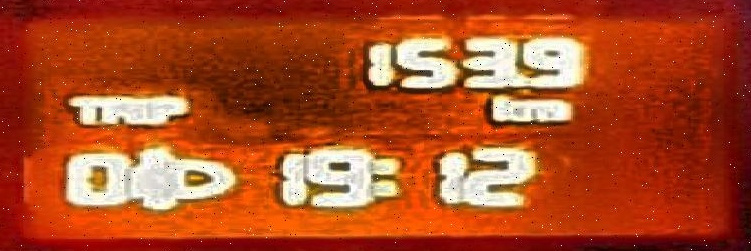-: (513, 71, 526, 91)
0: (62, 146, 131, 209)
1: (273, 146, 306, 209), (359, 37, 395, 90), (433, 146, 464, 206)
2: (466, 144, 533, 209)
3: (459, 33, 517, 89)
5: (393, 33, 455, 89)
9: (309, 140, 371, 209), (524, 32, 586, 87)
X: (520, 97, 571, 125), (97, 91, 133, 124), (370, 154, 395, 199), (153, 93, 188, 124), (66, 91, 97, 125), (486, 94, 519, 125), (135, 92, 150, 126)
